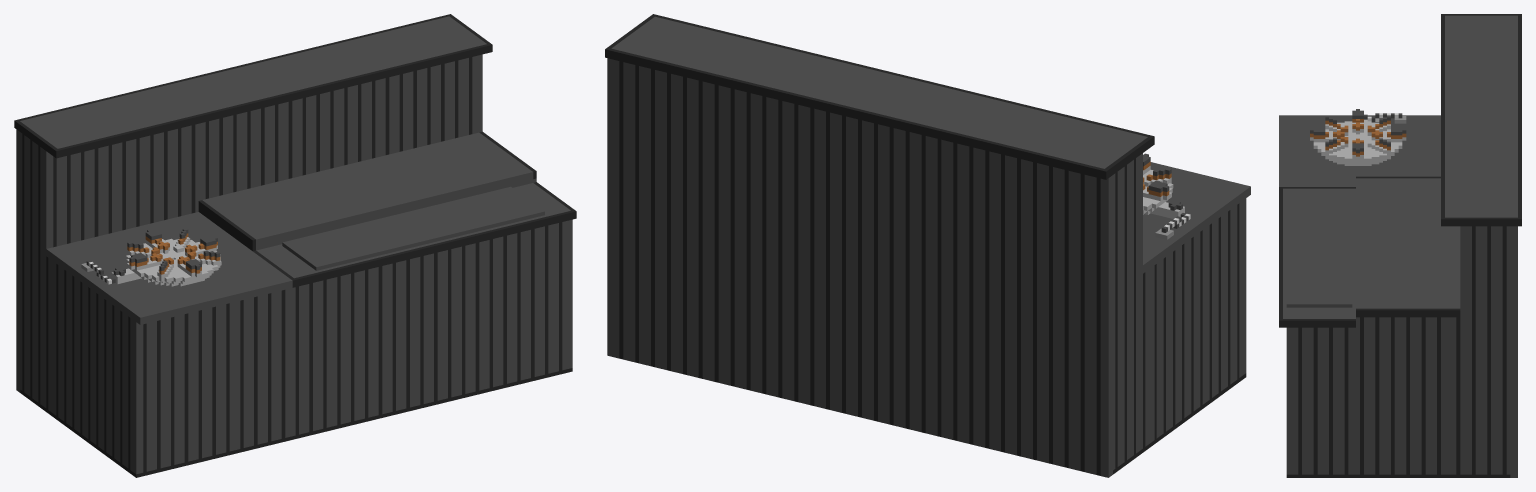
Rendered from kitchen.ver2.obj.
3 views of the same model, side by side, from view 1: azimuth 30°, elevation 25°; view 2: azimuth 150°, elevation 25°; view 3: azimuth 270°, elevation 25° (orthographic). The views are drawn at different scales.
Size of the model in its own units: 12.6 by 7.4 by 6.3.
